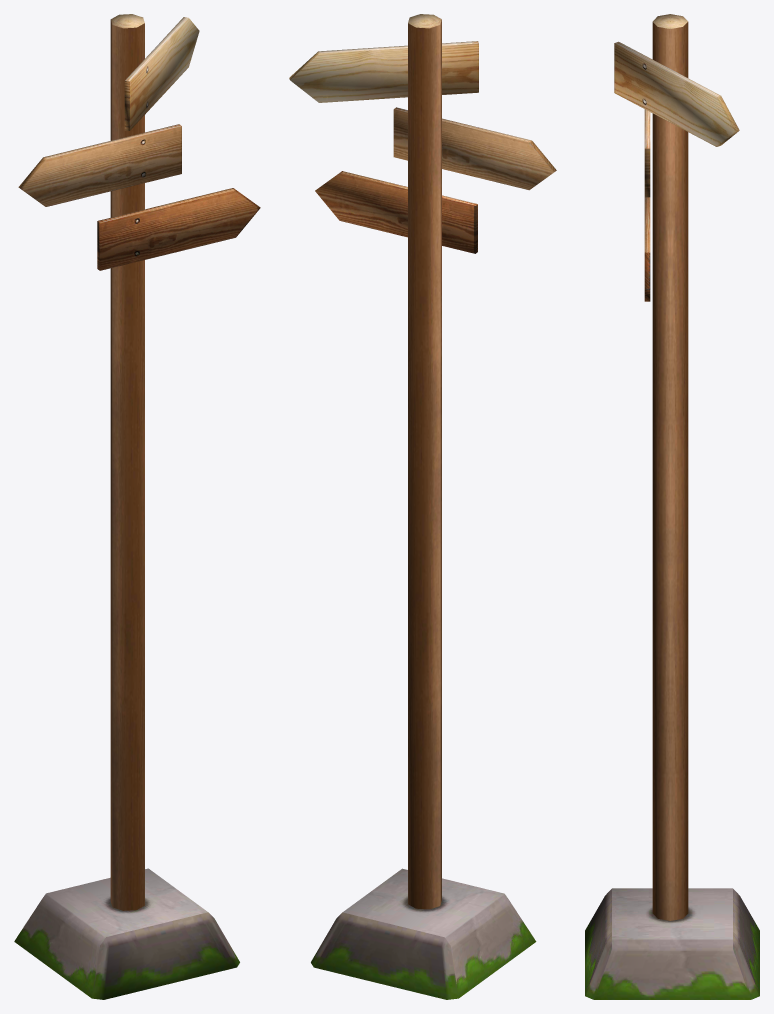
Rendered from WoodenSigns.obj.
The picture shows the model from 3 angles, left to right: view 1: azimuth 30°, elevation 25°; view 2: azimuth 150°, elevation 25°; view 3: azimuth 270°, elevation 25°; orthographic projection.
Visible parts, largest first — view 1: polySurface1; view 2: polySurface1; view 3: polySurface1.
Boxes of the visible parts, x1,y1,x2,y2 form: polySurface1: [14, 14, 260, 999]; polySurface1: [289, 14, 556, 999]; polySurface1: [585, 14, 759, 999].
Bounding box in the file's own units: 1.77 × 6.58 × 1.11.
1 material, 1 textured.
